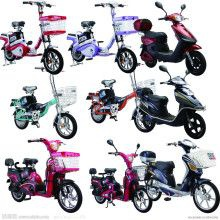non-vehicle: (138, 138, 220, 213), (4, 138, 85, 211), (128, 66, 207, 140), (135, 2, 206, 76), (68, 1, 138, 73), (5, 72, 80, 138), (2, 2, 65, 75), (86, 141, 150, 212), (85, 77, 155, 132)
